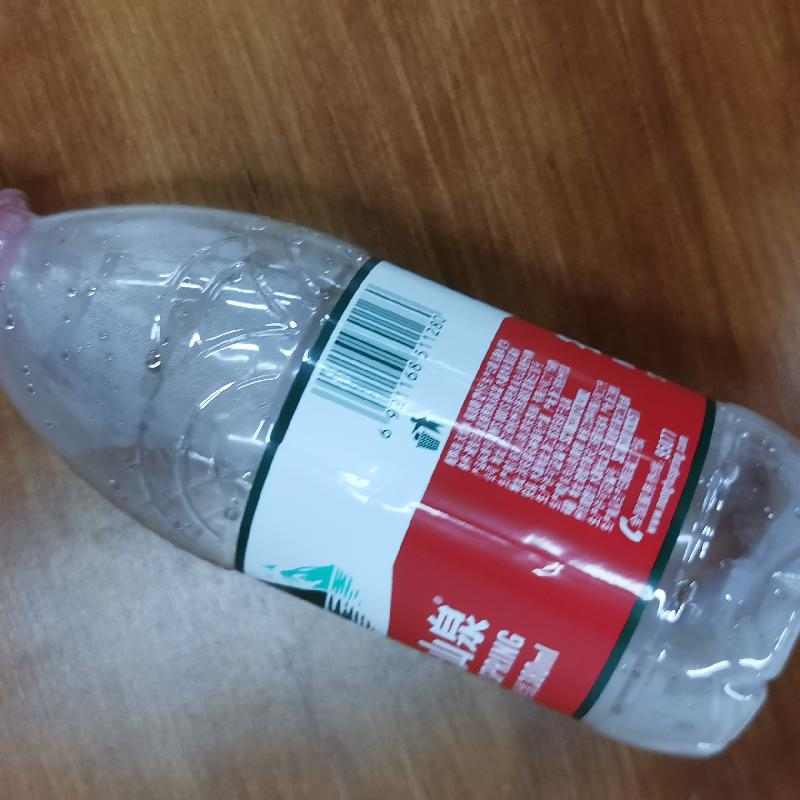bottles: (1, 160, 799, 757)
